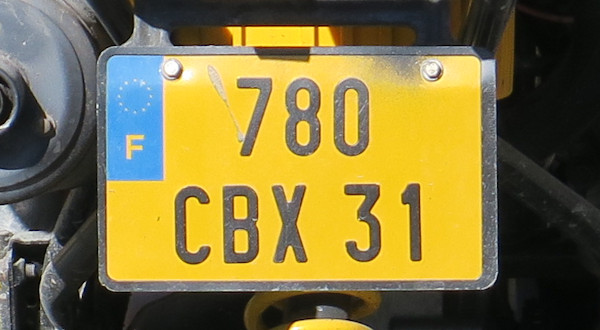license_plate: (97, 46, 498, 291)
